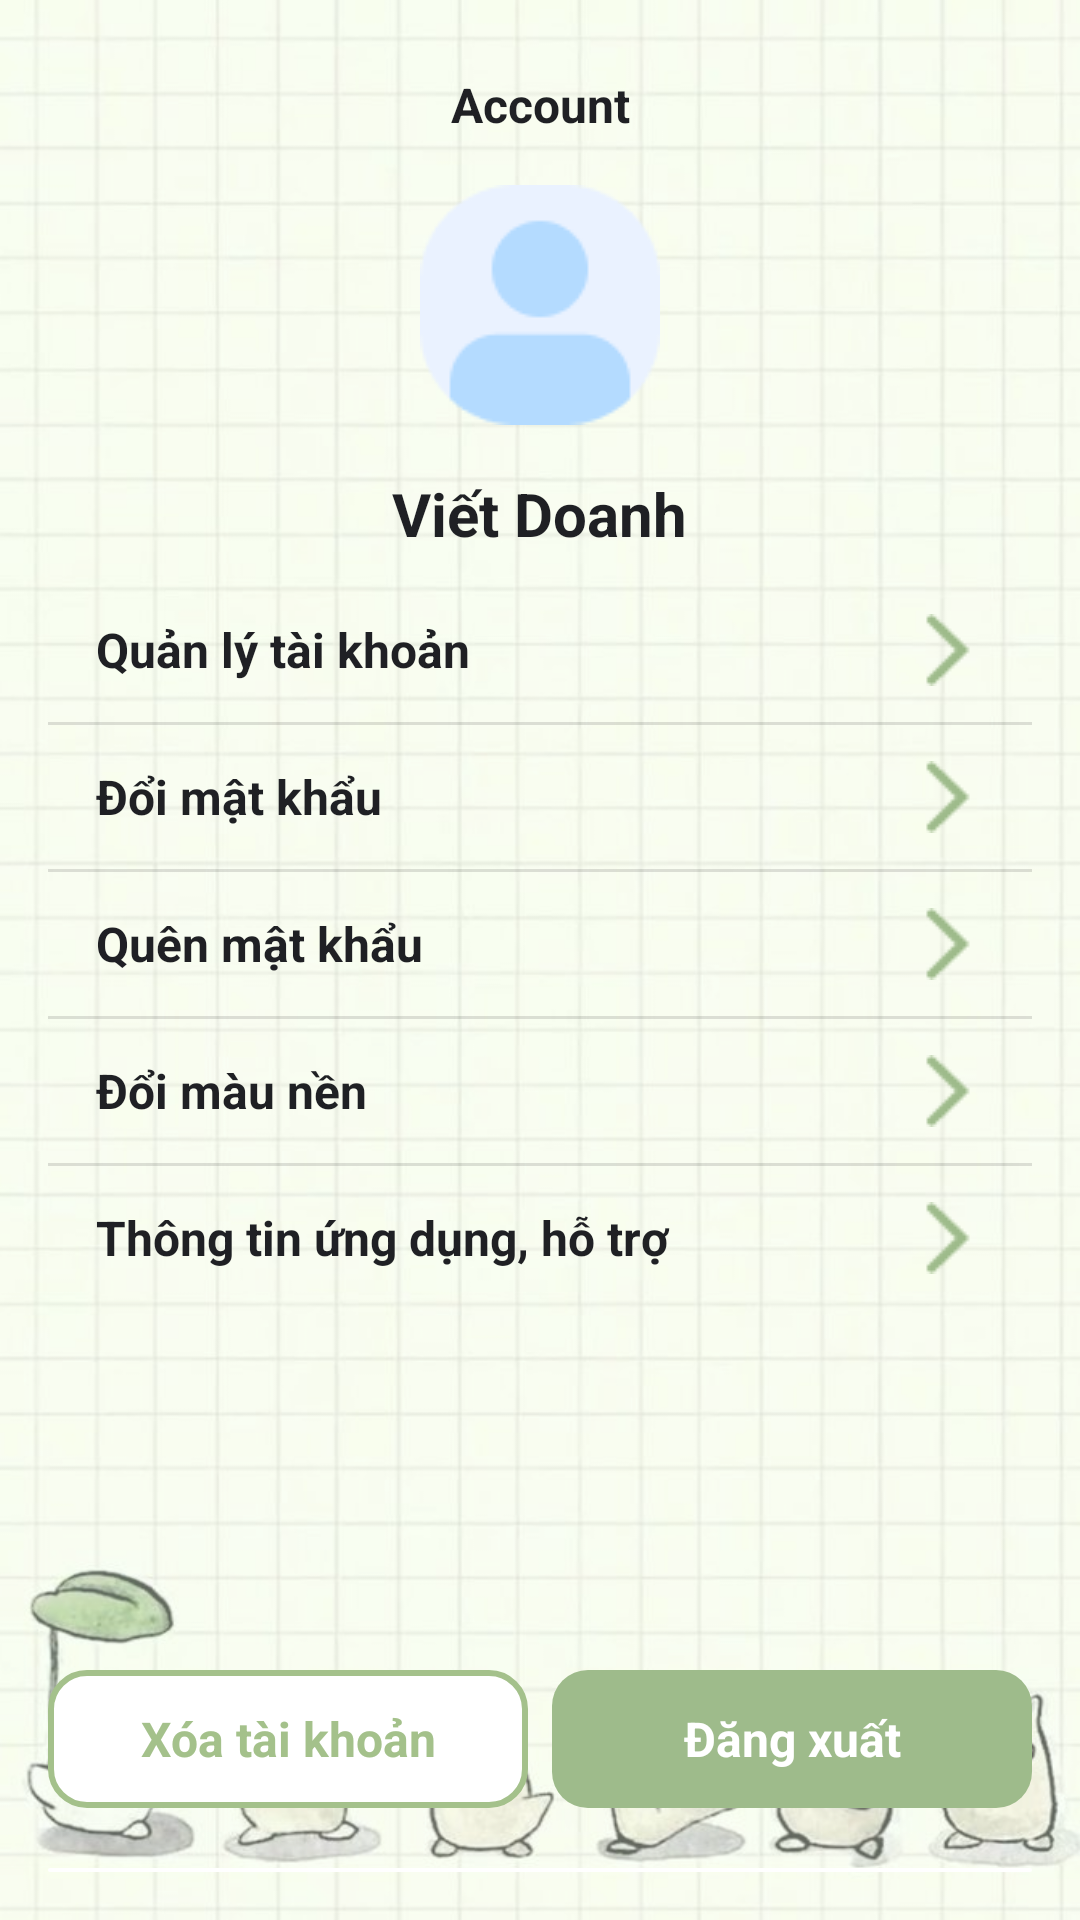

Screen size 1080 × 1920. Icon name, then its box in pixels as bbox=[x1, y1, x2, y2]:
arrow right: bbox=[926, 614, 969, 686], bbox=[926, 761, 969, 833], bbox=[926, 908, 969, 980], bbox=[926, 1055, 969, 1127], bbox=[926, 1202, 969, 1274]
person: bbox=[449, 220, 631, 425]
